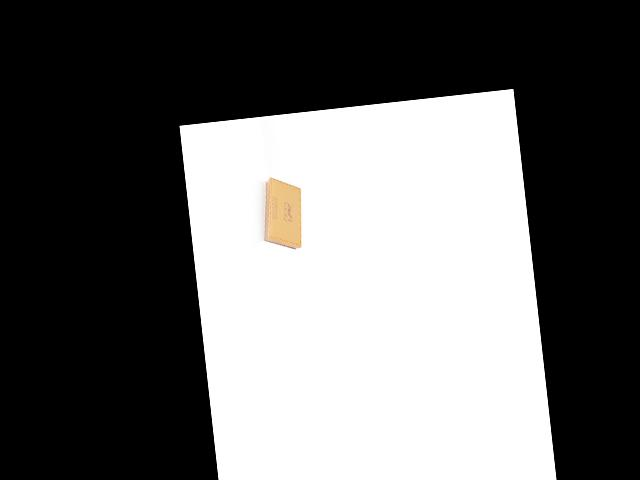chocolate: (251, 174, 309, 254)
